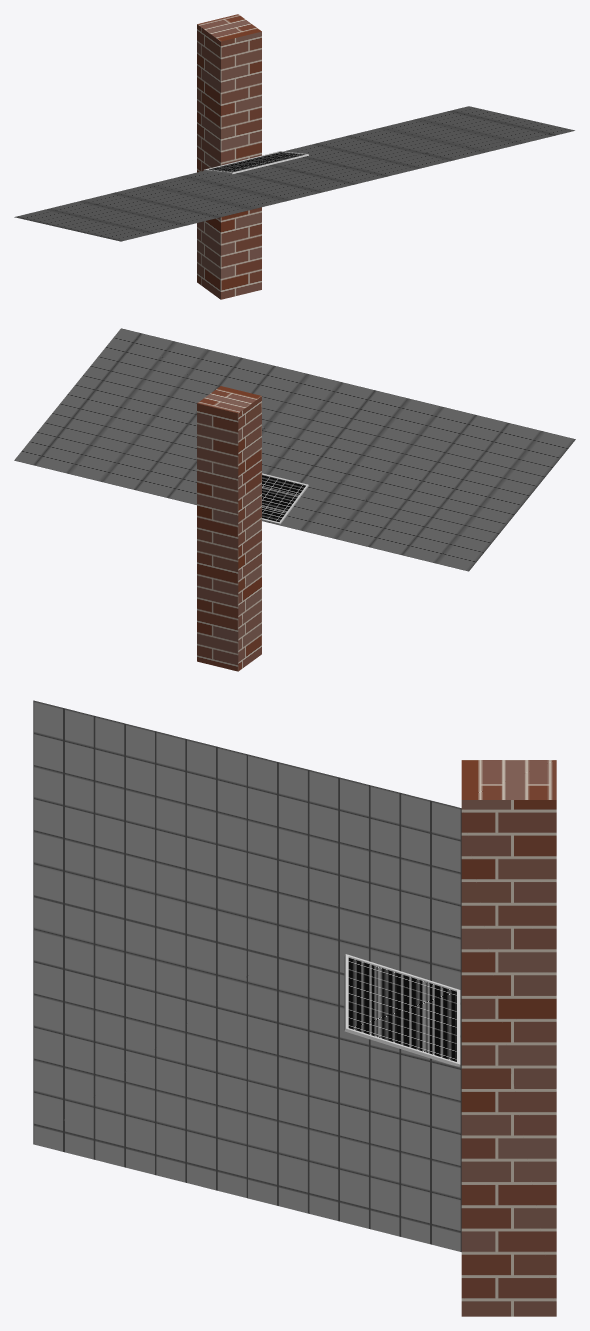
The model's file is panel.gltf.
3 renders of one model, top to bottom at view 1: azimuth 30°, elevation 25°; view 2: azimuth 150°, elevation 25°; view 3: azimuth 270°, elevation 25°, orthographic. The views are drawn at different scales.
Visible parts, largest first — view 1: roof, chimney, panel; view 2: roof, chimney, panel; view 3: roof, chimney, panel.
Boxes of the visible parts, <box> form: roof: <box>14,106,574,241</box>; chimney: <box>197,14,261,299</box>; panel: <box>203,151,308,174</box>; roof: <box>14,328,575,571</box>; chimney: <box>197,386,261,671</box>; panel: <box>262,473,308,524</box>; roof: <box>33,700,461,1251</box>; chimney: <box>461,760,556,1316</box>; panel: <box>344,954,460,1066</box>.
Bounding box in the file's own units: 44.17 × 23.96 × 22.
Materials: 3 (3 with a texture image).
